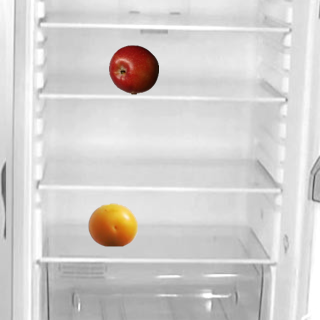Apple Braeburn: (108, 44, 158, 94)
Cherry Wax Yellow: (87, 199, 137, 249)
